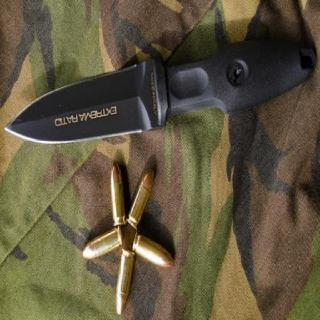knife: (2, 46, 168, 152)
